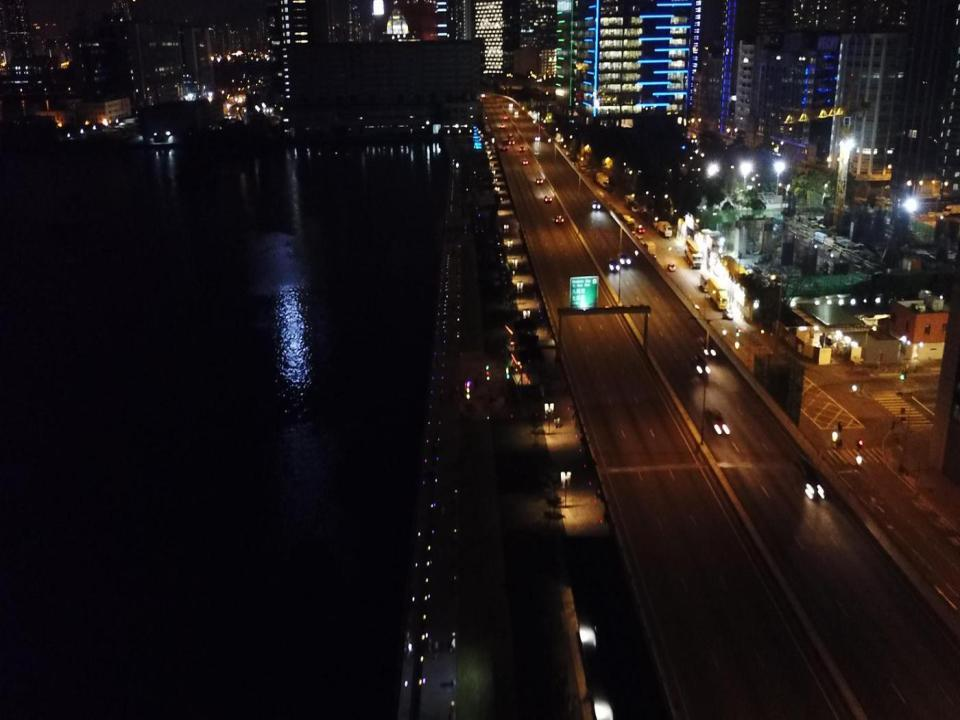bus: (616, 214, 634, 236)
car: (705, 408, 727, 434), (698, 336, 715, 356), (694, 357, 709, 374), (618, 253, 631, 266), (722, 308, 734, 320), (633, 233, 644, 246), (554, 215, 564, 226), (608, 260, 618, 270), (592, 202, 600, 210), (637, 225, 646, 232), (668, 264, 675, 272), (632, 205, 639, 213), (544, 195, 552, 202), (536, 176, 543, 184), (503, 114, 508, 121), (522, 159, 528, 164), (535, 136, 540, 141), (514, 111, 519, 116), (481, 92, 486, 97), (509, 103, 513, 109), (500, 123, 505, 127)
truck: (708, 277, 728, 310), (684, 240, 704, 269), (700, 274, 715, 291), (658, 221, 672, 237), (645, 240, 656, 258), (625, 193, 634, 207), (502, 139, 510, 150), (508, 134, 515, 144), (519, 145, 525, 152)
van: (792, 458, 823, 500)
